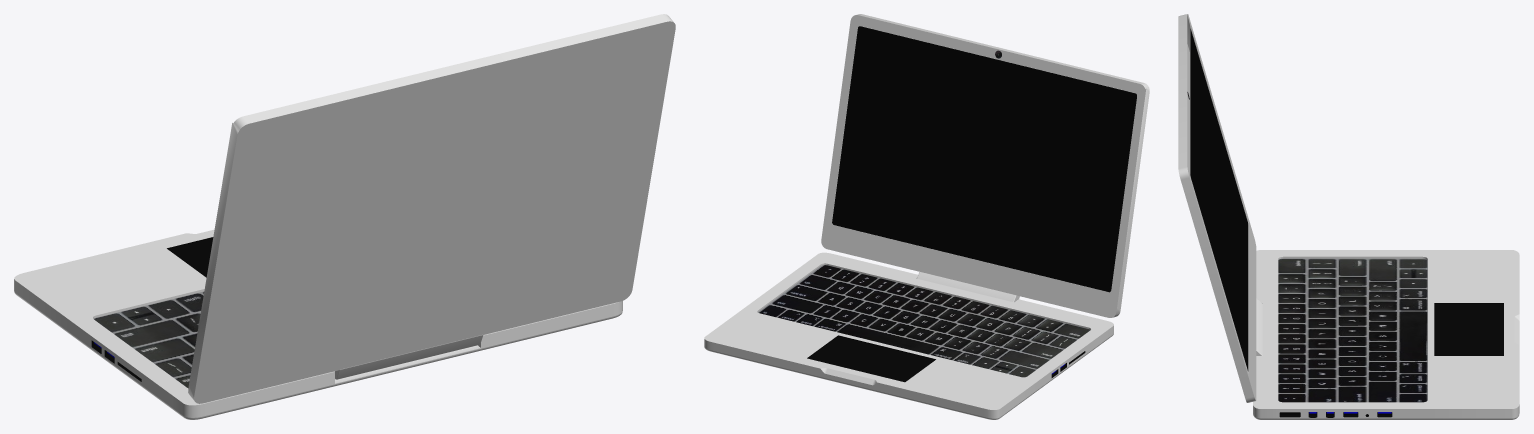
The model's file is Laptop.fbx.
The picture shows the model from 3 angles, left to right: view 1: azimuth 30°, elevation 25°; view 2: azimuth 150°, elevation 25°; view 3: azimuth 270°, elevation 25°; orthographic projection. The views are drawn at different scales.
Parts seen in each view (by area): view 1: Cube.047; view 2: Cube.047; view 3: Cube.047.
Part boxes in pixels (box(x1,y1,x2,y2)): Cube.047: box(14, 14, 675, 419); Cube.047: box(704, 14, 1149, 419); Cube.047: box(1178, 14, 1519, 419).
Size of the model in its own units: 31.57 by 23.17 by 28.59.
Materials: 8 (2 with a texture image).
